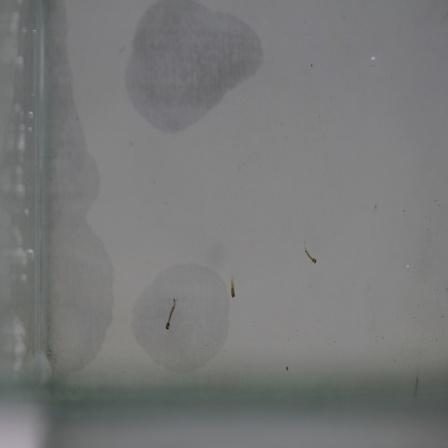Jentik-Nyamuk: (162, 293, 181, 335), (300, 239, 321, 267), (227, 274, 239, 301)
